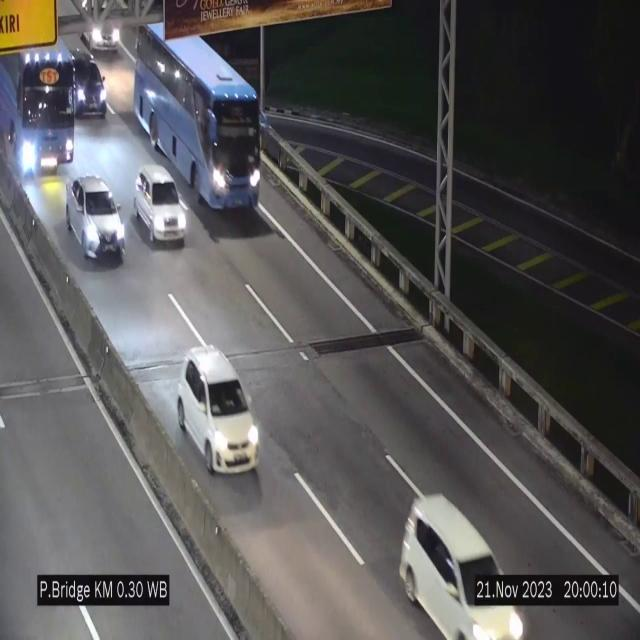Bus: (129, 38, 268, 216), (0, 20, 77, 186)
Car: (392, 484, 532, 640), (178, 348, 260, 473), (66, 177, 126, 260), (133, 164, 186, 245), (69, 53, 107, 130)
